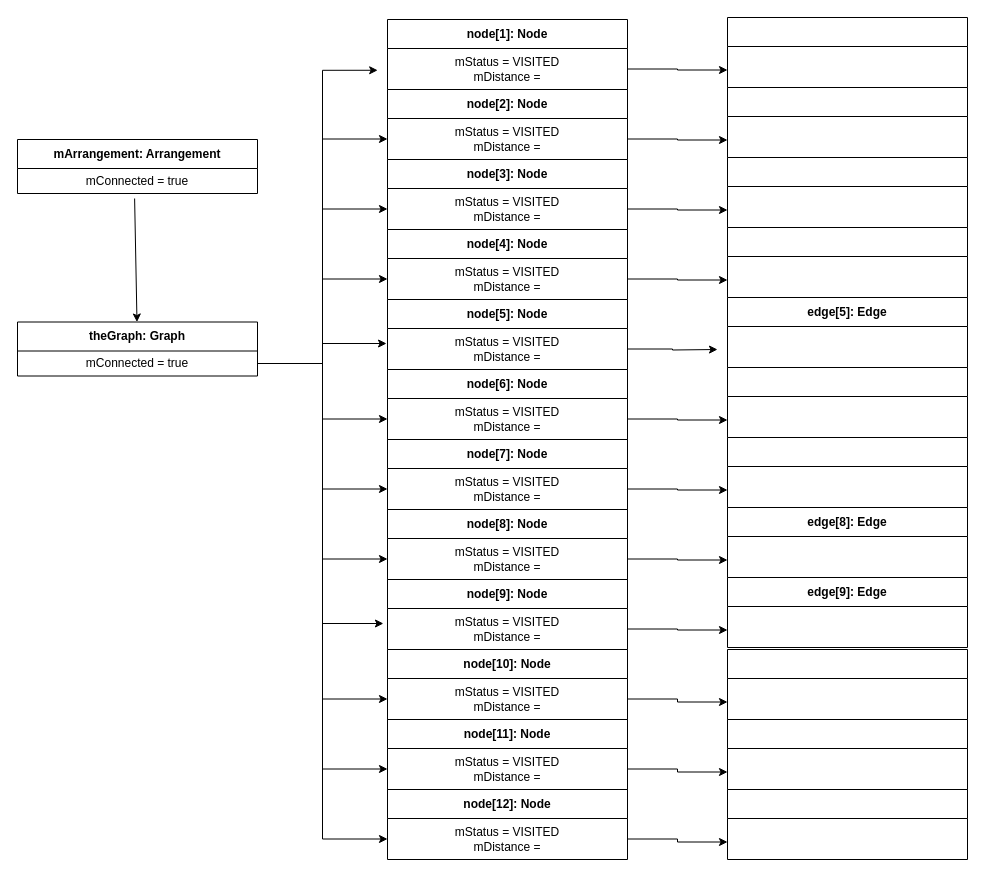
This 985x877 diagram has some shape labels left out. Here are the shapes that lost their labels. From the top down, the centre of each, then its label:
the point at 847,52: edge[1]: Edge
the point at 847,122: edge[2]: Edge
the point at 847,192: edge[3]: Edge
the point at 847,262: edge[4]: Edge
the point at 847,402: edge[6]: Edge
the point at 847,472: edge[7]: Edge
the point at 847,684: edge[10]: Edge
the point at 847,754: edge[11]: Edge
the point at 847,824: edge[12]: Edge
